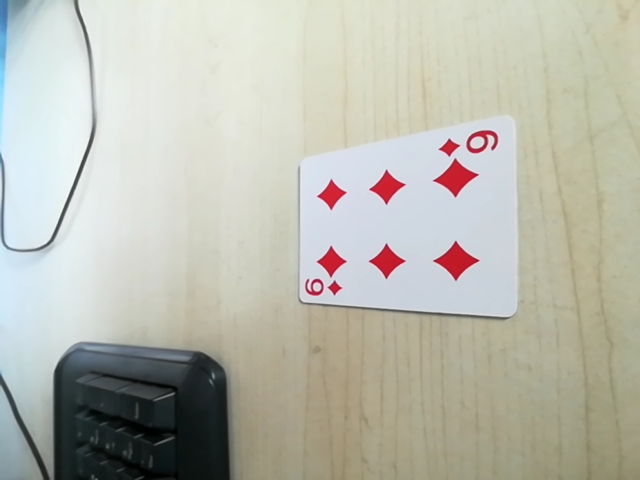fk 6: (439, 124, 503, 161), (298, 275, 347, 302)
